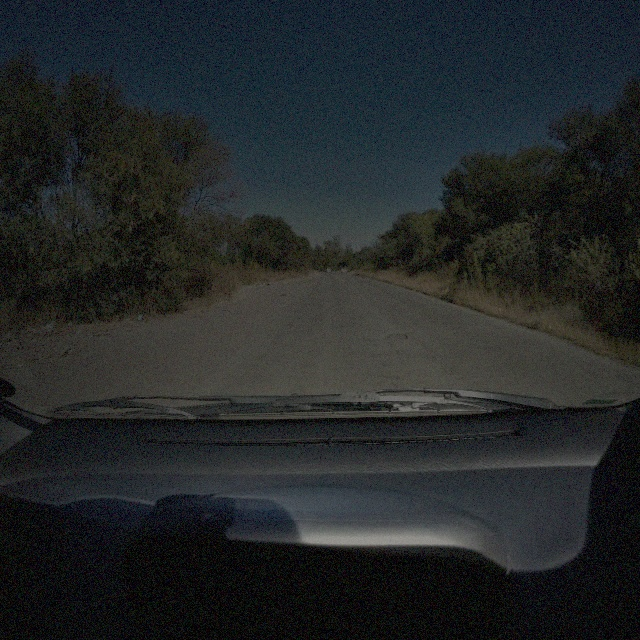pothole: (382, 328, 408, 341)
